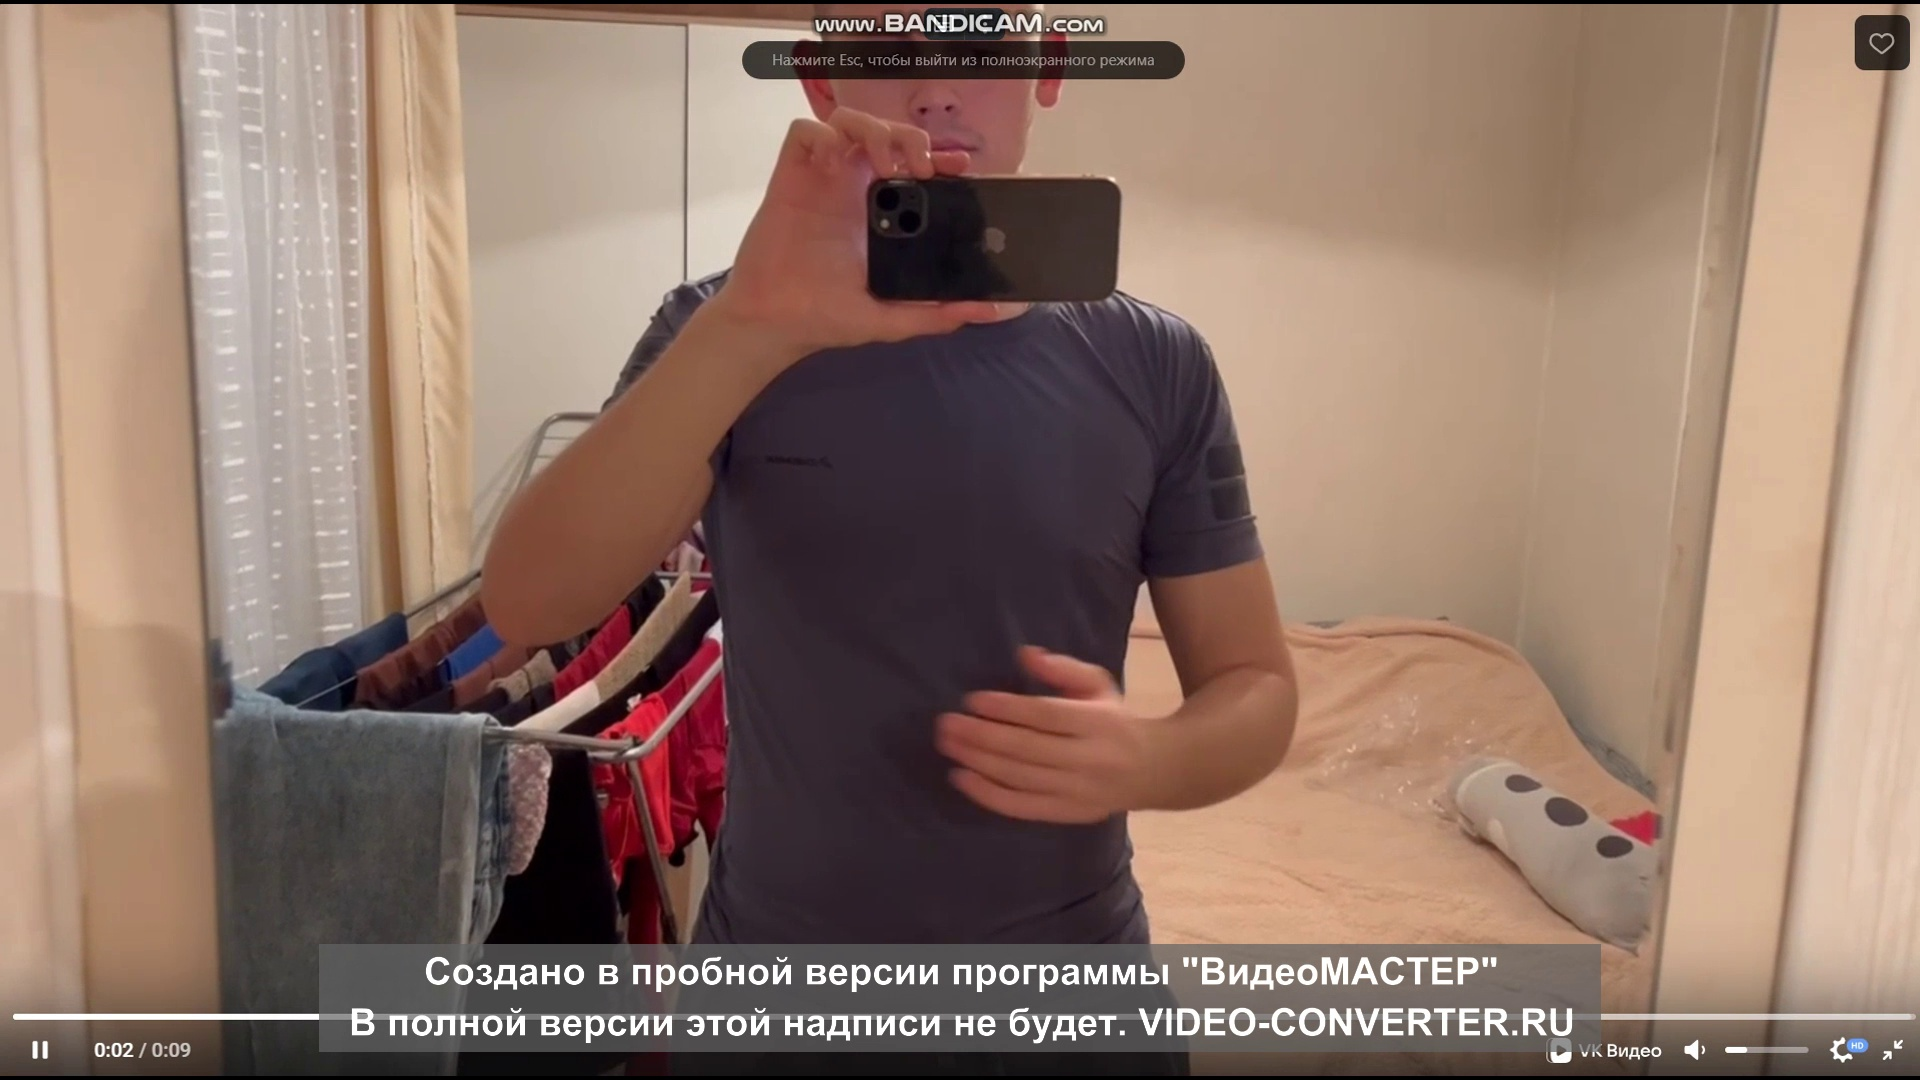Кисть: (932, 636, 1138, 824)
